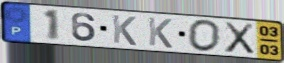1: (41, 8, 61, 42)
6: (70, 12, 98, 43)
K: (146, 16, 174, 50), (111, 13, 138, 47)
O: (186, 18, 222, 54)
X: (222, 21, 256, 56)
